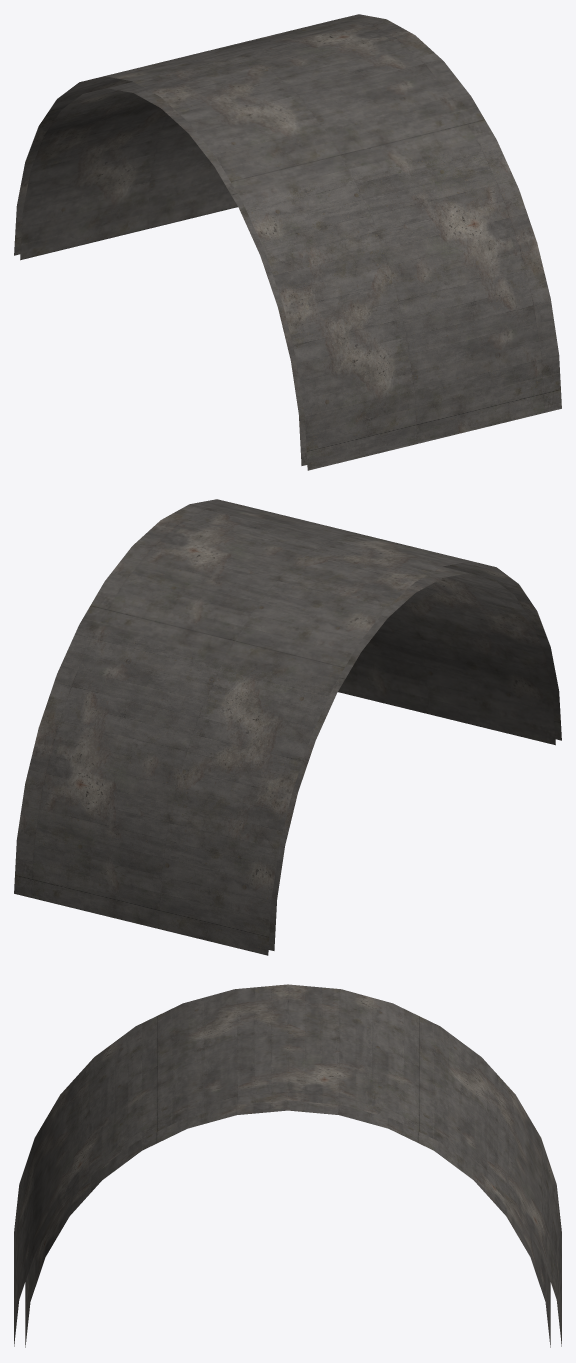
File: msp_tunnel_ceiling.fbx
The picture shows the model from 3 angles, top to bottom: view 1: azimuth 30°, elevation 25°; view 2: azimuth 150°, elevation 25°; view 3: azimuth 270°, elevation 25°; orthographic projection. The views are drawn at different scales.
Visible parts, largest first — view 1: msp_tunnel_ceiling; view 2: msp_tunnel_ceiling; view 3: msp_tunnel_ceiling.
Boxes of the visible parts, <box> form: msp_tunnel_ceiling: <box>14,14,561,470</box>; msp_tunnel_ceiling: <box>14,499,561,955</box>; msp_tunnel_ceiling: <box>14,984,561,1347</box>.
Size of the model in its own units: 4 by 4 by 8.
